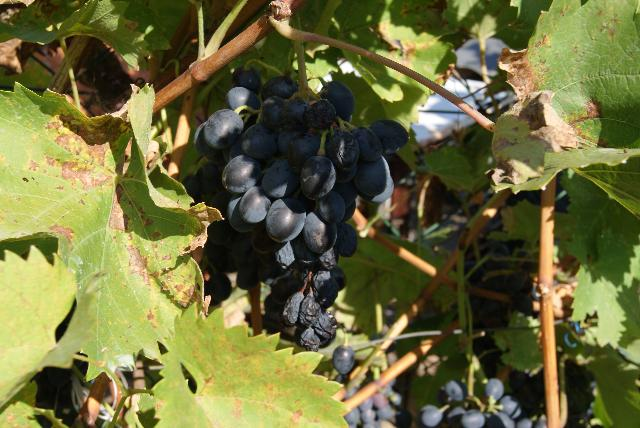grapes: (182, 66, 409, 351)
